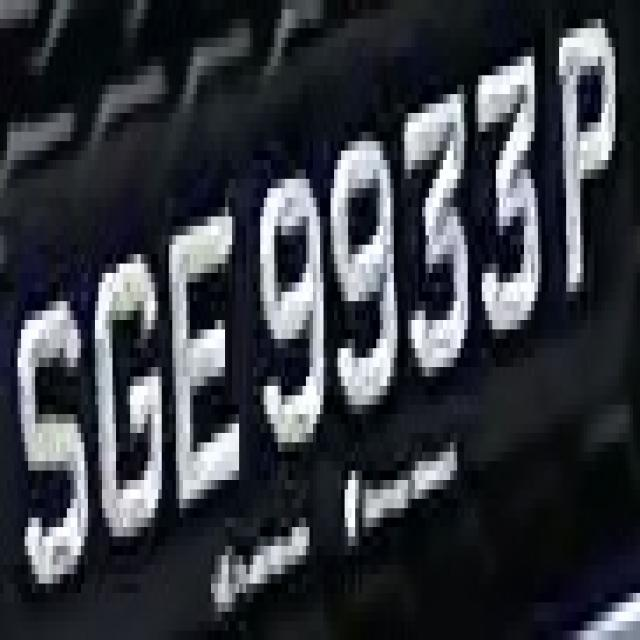3: (457, 0, 549, 348), (391, 76, 478, 423)
9: (250, 142, 338, 490), (316, 122, 401, 442)
E: (162, 169, 253, 527)
G: (91, 226, 169, 574)
P: (548, 9, 622, 320)
S: (3, 264, 95, 621)
